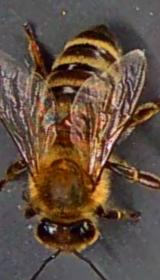varroa_mite: (62, 106, 88, 130)
